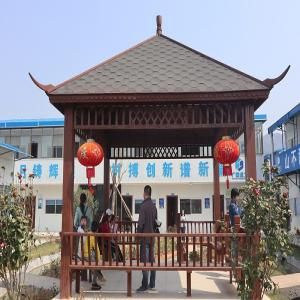none: (143, 185, 153, 201), (231, 186, 240, 203), (80, 193, 88, 206), (81, 216, 89, 228), (92, 221, 99, 234), (111, 216, 117, 227), (182, 209, 186, 216)
white: (106, 209, 113, 222)
